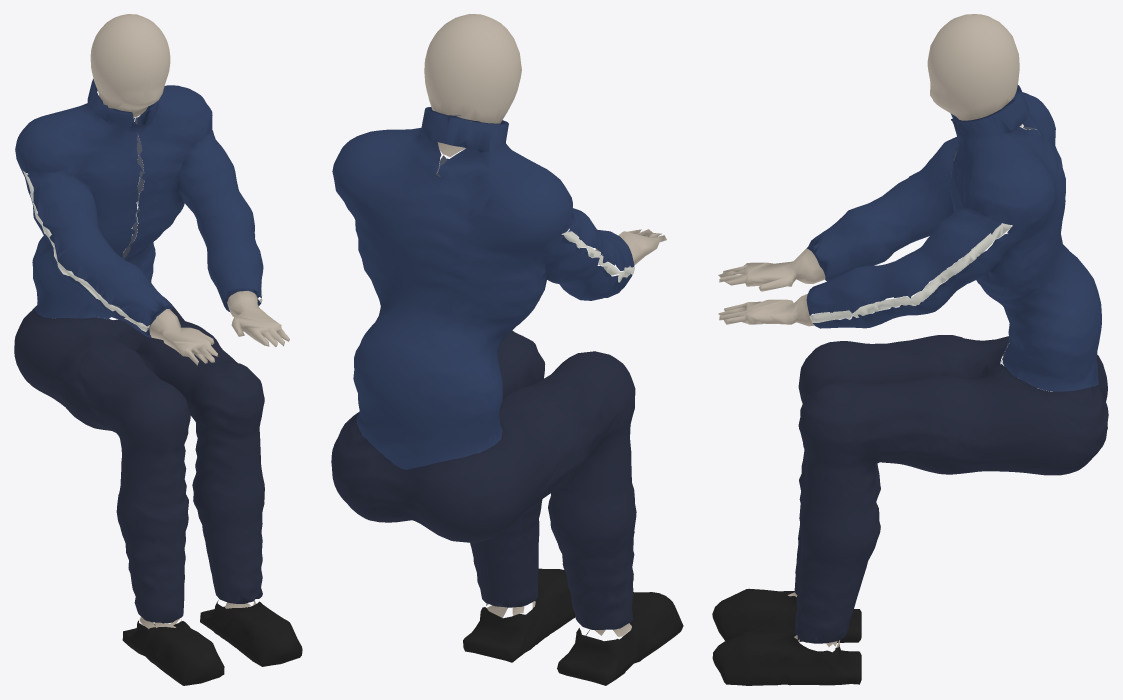
Rendered from sit.glb.
3 renders of one model, left to right at view 1: azimuth 30°, elevation 25°; view 2: azimuth 150°, elevation 25°; view 3: azimuth 270°, elevation 25°, orthographic. The views are drawn at different scales.
Visible parts, largest first — view 1: dressed_sit_trousers, dressed_sit_jacket, dressed_sit_skin, dressed_sit_shoes, dressed_sit_trim, dressed_sit_zip; view 2: dressed_sit_jacket, dressed_sit_trousers, dressed_sit_shoes, dressed_sit_skin, dressed_sit_trim; view 3: dressed_sit_trousers, dressed_sit_jacket, dressed_sit_skin, dressed_sit_shoes, dressed_sit_trim.
Part boxes in pixels (bbox=[...]): dressed_sit_trousers: bbox=[14, 296, 264, 623]; dressed_sit_jacket: bbox=[15, 79, 263, 337]; dressed_sit_skin: bbox=[90, 14, 289, 628]; dressed_sit_shoes: bbox=[122, 600, 302, 685]; dressed_sit_trim: bbox=[23, 171, 263, 331]; dressed_sit_zip: bbox=[114, 117, 144, 307]; dressed_sit_jacket: bbox=[332, 107, 634, 469]; dressed_sit_trousers: bbox=[331, 330, 636, 629]; dressed_sit_shoes: bbox=[463, 568, 683, 685]; dressed_sit_skin: bbox=[424, 14, 666, 636]; dressed_sit_trim: bbox=[562, 229, 634, 282]; dressed_sit_trousers: bbox=[794, 335, 1108, 643]; dressed_sit_jacket: bbox=[806, 85, 1101, 391]; dressed_sit_skin: bbox=[718, 14, 1022, 647]; dressed_sit_shoes: bbox=[712, 588, 861, 685]; dressed_sit_trim: bbox=[809, 223, 1012, 322].
Size of the model in its own units: 0.4984 by 1.41 by 0.7905.
